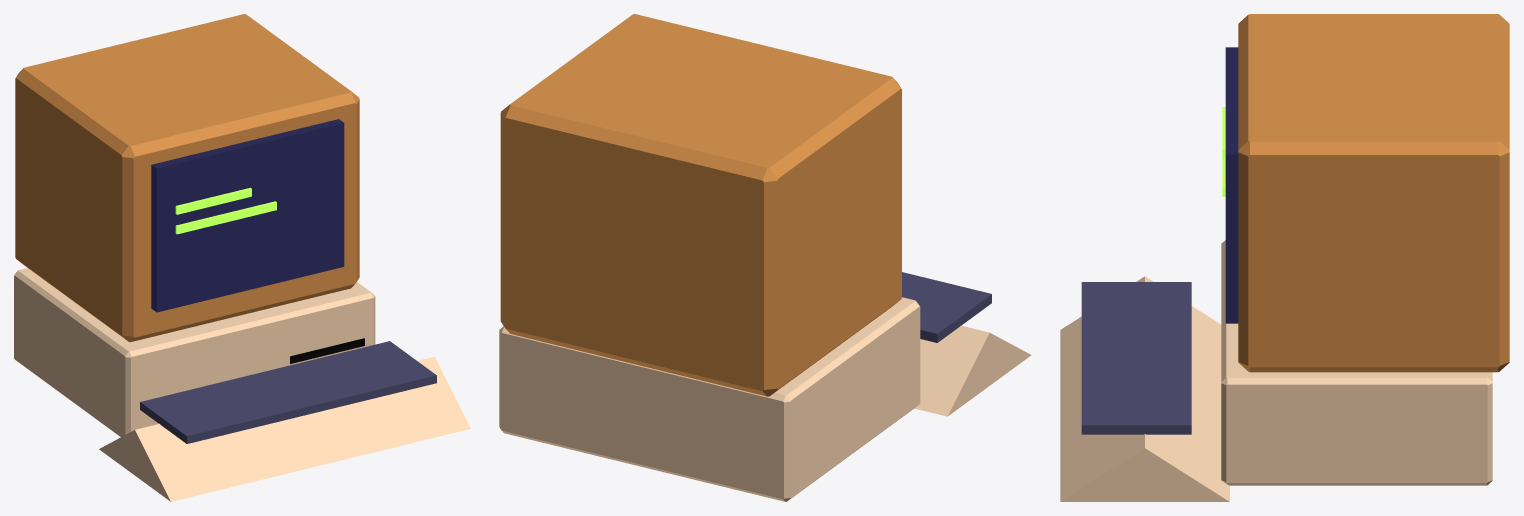
Rendered from computer.glb.
The picture shows the model from 3 angles, left to right: view 1: azimuth 30°, elevation 25°; view 2: azimuth 150°, elevation 25°; view 3: azimuth 270°, elevation 25°; orthographic projection. The views are drawn at different scales.
Parts seen in each view (by area): view 1: root; view 2: root; view 3: root.
Boxes of the visible parts, bbox=[...] form: root: bbox=[14, 14, 470, 501]; root: bbox=[499, 14, 1031, 501]; root: bbox=[1060, 14, 1509, 501].
Bounding box in the file's own units: 0.48 × 0.44 × 0.53.
